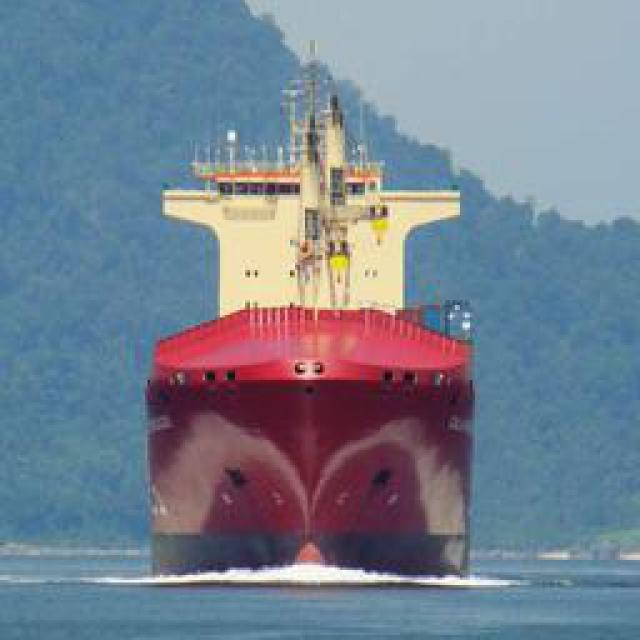Ship: (124, 34, 508, 591)
